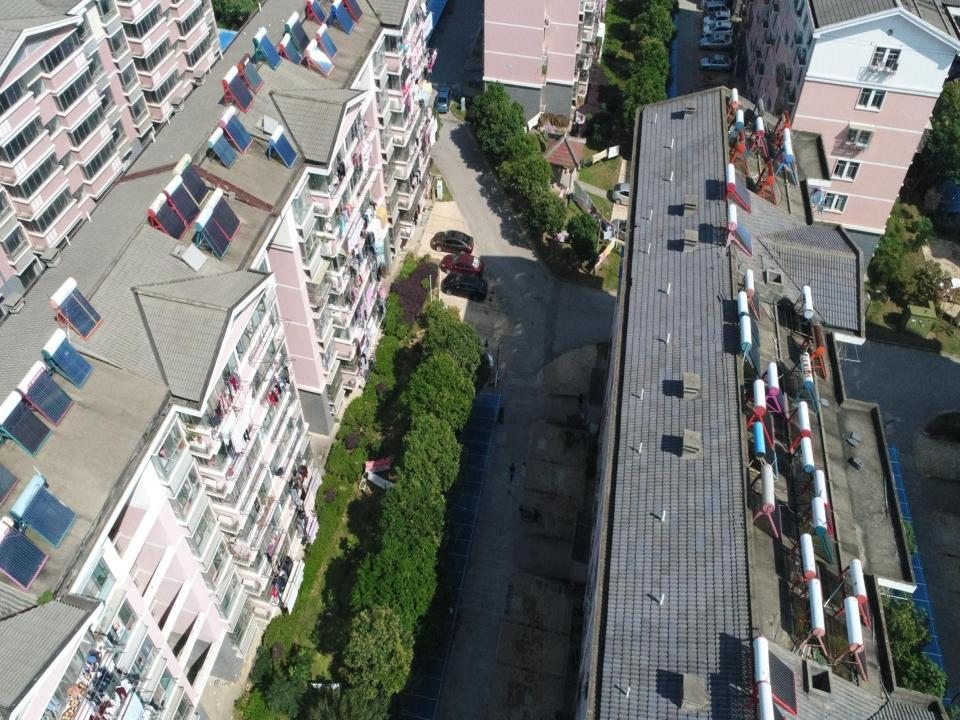car: (442, 273, 488, 302), (440, 253, 484, 278), (432, 229, 473, 255), (464, 346, 494, 373), (610, 218, 638, 244), (612, 182, 641, 206), (700, 54, 732, 70), (700, 34, 732, 50), (702, 20, 733, 36), (435, 86, 452, 113), (703, 9, 730, 26)
van: (703, 1, 727, 15)
